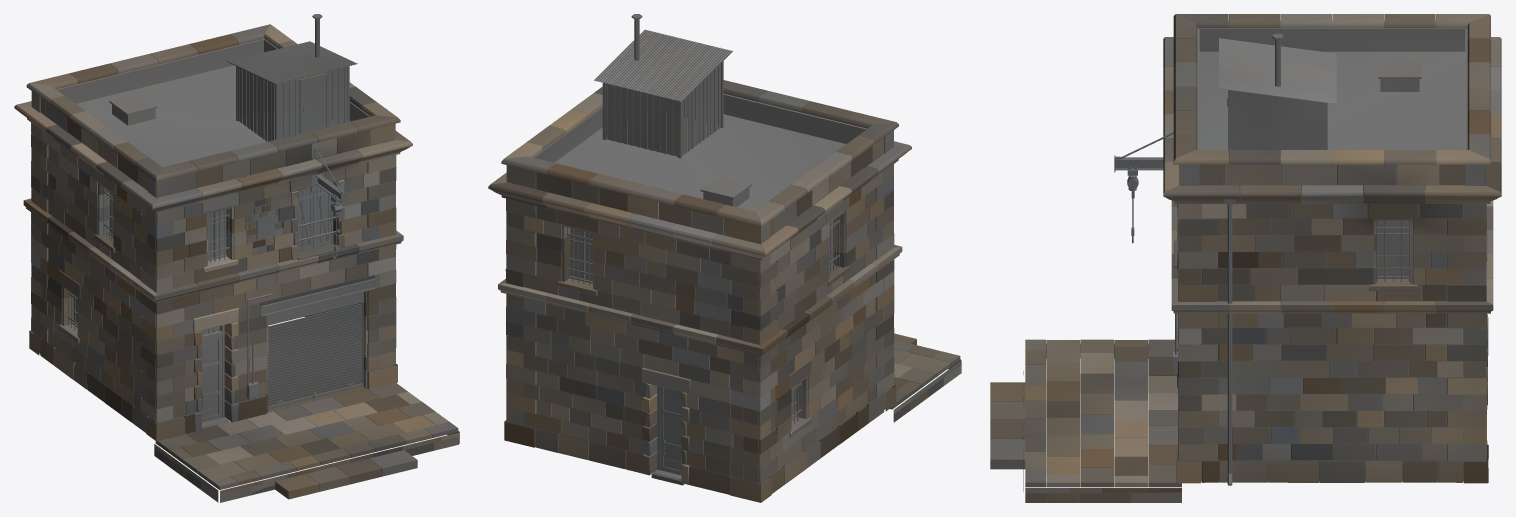
Rendered from Salvage_LOD1.glb.
3 views of the same model, side by side, from view 1: azimuth 30°, elevation 25°; view 2: azimuth 150°, elevation 25°; view 3: azimuth 270°, elevation 25° (orthographic). The views are drawn at different scales.
Parts seen in each view (by area): view 1: Salvage_Masonry_LOD1, Salvage_Trim_LOD1, Salvage_Metal_LOD1, Salvage_Porch_LOD1, Salvage_Roof_LOD1, Salvage_Glass_LOD1; view 2: Salvage_Masonry_LOD1, Salvage_Trim_LOD1, Salvage_Roof_LOD1, Salvage_Metal_LOD1, Salvage_Porch_LOD1, Salvage_Glass_LOD1; view 3: Salvage_Masonry_LOD1, Salvage_Trim_LOD1, Salvage_Porch_LOD1, Salvage_Roof_LOD1, Salvage_Metal_LOD1, Salvage_Glass_LOD1.
Boxes of the visible parts, <box> form: Salvage_Masonry_LOD1: <box>29,38,397,441</box>; Salvage_Trim_LOD1: <box>14,24,412,431</box>; Salvage_Metal_LOD1: <box>68,14,375,426</box>; Salvage_Porch_LOD1: <box>154,383,459,502</box>; Salvage_Roof_LOD1: <box>76,41,357,167</box>; Salvage_Glass_LOD1: <box>73,191,226,334</box>; Salvage_Masonry_LOD1: <box>504,93,896,502</box>; Salvage_Trim_LOD1: <box>488,80,911,484</box>; Salvage_Roof_LOD1: <box>554,29,846,211</box>; Salvage_Metal_LOD1: <box>551,14,839,479</box>; Salvage_Porch_LOD1: <box>651,333,961,485</box>; Salvage_Glass_LOD1: <box>552,193,832,415</box>; Salvage_Masonry_LOD1: <box>1176,21,1488,483</box>; Salvage_Trim_LOD1: <box>1163,14,1501,404</box>; Salvage_Porch_LOD1: <box>990,339,1181,502</box>; Salvage_Roof_LOD1: <box>1199,38,1465,153</box>; Salvage_Metal_LOD1: <box>1114,33,1412,485</box>; Salvage_Glass_LOD1: <box>1376,220,1410,276</box>.
Bounding box in the file's own units: 8.46 × 11.24 × 11.73.
